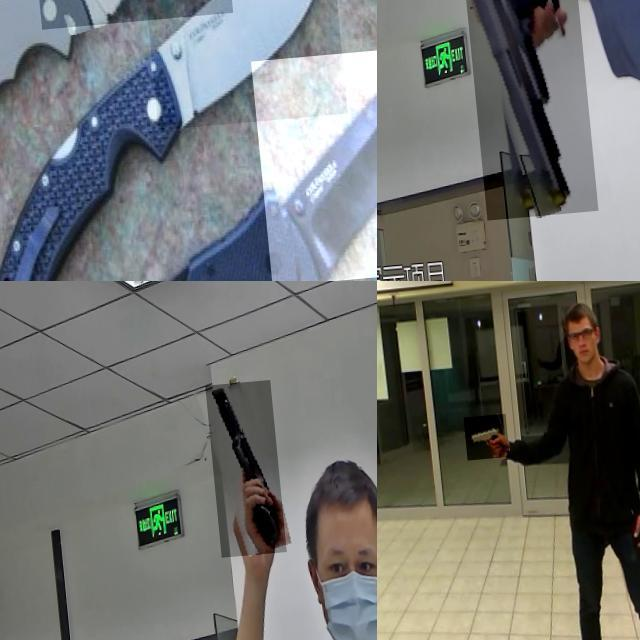-: (246, 55, 377, 281), (139, 0, 341, 136), (25, 0, 229, 82)
gun-knife-thesis - v11 Yolov5 augmented: (451, 0, 587, 224), (200, 386, 278, 562), (456, 421, 502, 466)
